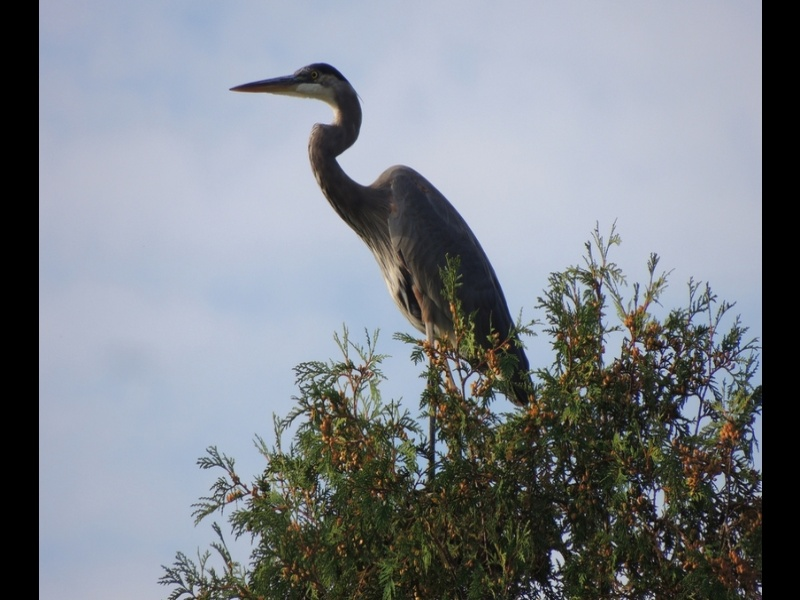heron: (220, 56, 561, 501)
